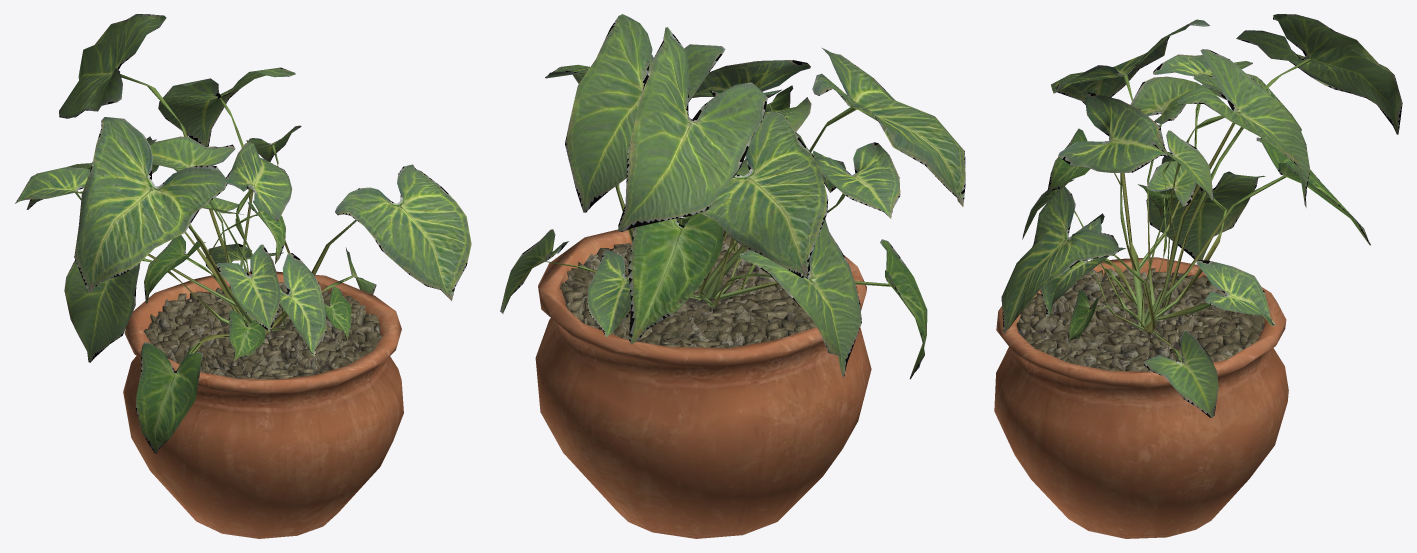
Rendered from pot_low.glb.
The picture shows the model from 3 angles, left to right: view 1: azimuth 30°, elevation 25°; view 2: azimuth 150°, elevation 25°; view 3: azimuth 270°, elevation 25°; orthographic projection. The views are drawn at different scales.
Parts seen in each view (by area): view 1: pot_low; view 2: pot_low; view 3: pot_low.
Part boxes in pixels (x1,y1,x2,y2): pot_low: [15, 14, 471, 538]; pot_low: [500, 14, 965, 538]; pot_low: [994, 14, 1402, 538].
Bounding box in the file's own units: 0.7011 × 0.8425 × 0.656.
Materials: 2 (2 with a texture image).
